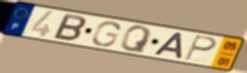4: (29, 10, 55, 39)
A: (151, 32, 185, 61)
B: (51, 12, 88, 43)
G: (90, 21, 122, 48)
P: (183, 34, 219, 62)
Q: (119, 25, 154, 55)
